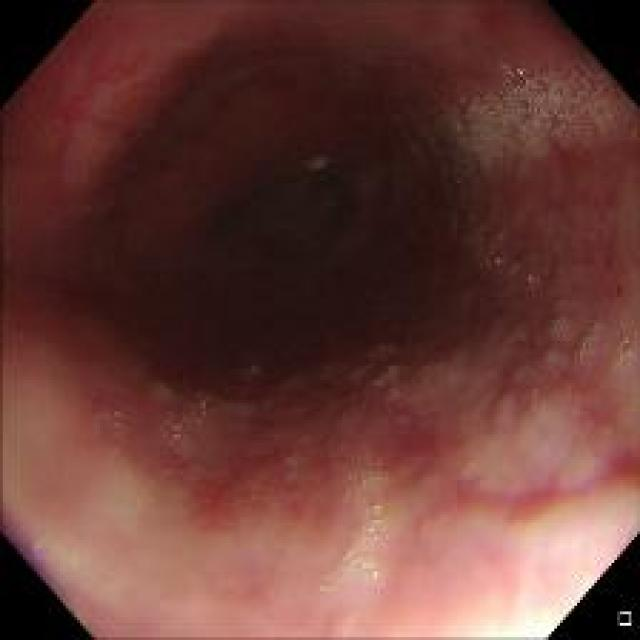bubbles: (432, 49, 629, 168), (345, 460, 394, 585), (550, 296, 609, 359), (618, 330, 639, 361), (312, 574, 341, 595), (165, 421, 189, 441)
color misalignment: (18, 534, 54, 579), (360, 340, 401, 379), (140, 376, 176, 405)
contrast: (94, 49, 465, 381)
saturation: (460, 582, 584, 631)
specularity: (512, 65, 525, 78)
